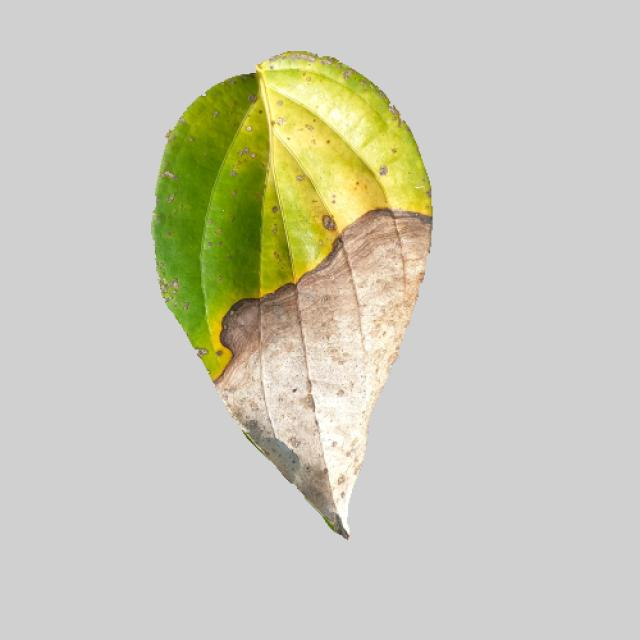leaf-blight: (140, 60, 438, 539)
